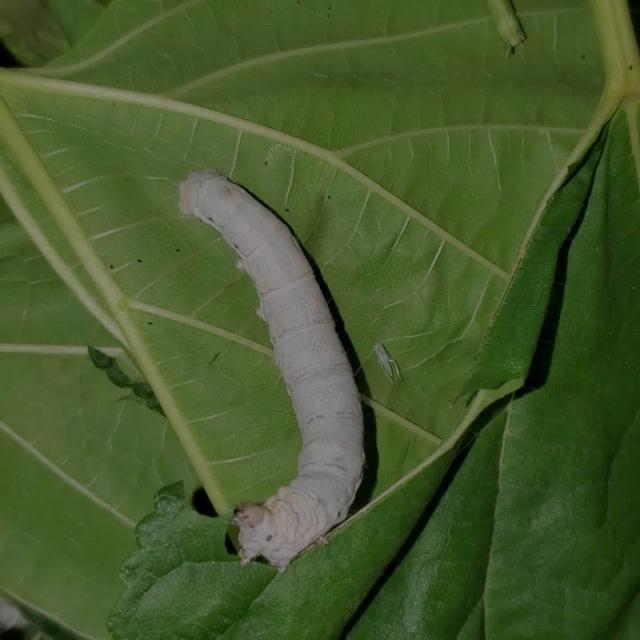Healthy: (166, 161, 374, 570)
